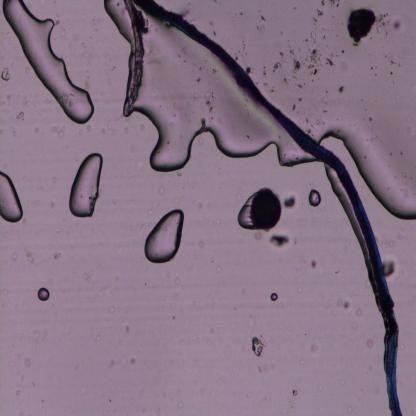Air bubble: (134, 55, 312, 174), (2, 1, 95, 126), (310, 116, 416, 220), (68, 152, 104, 220), (144, 209, 185, 264), (100, 0, 134, 43), (0, 169, 23, 224), (236, 193, 254, 229), (308, 187, 320, 208), (36, 286, 50, 301), (270, 292, 278, 302)
Background material: (285, 47, 334, 78), (344, 7, 377, 49), (18, 244, 42, 271), (376, 11, 393, 41), (310, 9, 323, 43), (267, 231, 290, 250), (250, 333, 266, 360), (203, 97, 213, 125), (282, 194, 297, 212), (272, 52, 285, 72), (381, 261, 396, 278), (305, 338, 318, 354), (15, 108, 27, 124), (392, 15, 402, 34), (354, 302, 364, 320), (338, 296, 350, 310), (259, 13, 267, 34), (290, 384, 300, 400), (364, 338, 377, 350), (0, 68, 12, 81), (296, 78, 305, 90), (310, 258, 319, 269), (246, 65, 254, 75), (55, 250, 62, 260), (338, 84, 344, 95), (291, 104, 297, 112)
Cellulose filter fibre: (124, 0, 143, 112)
Cotton: (138, 0, 403, 416)
Diatom: (251, 187, 282, 231)
